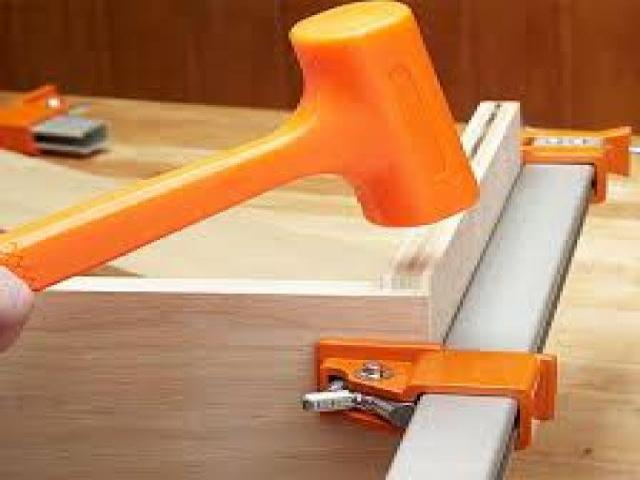hammer: (0, 0, 485, 305)
